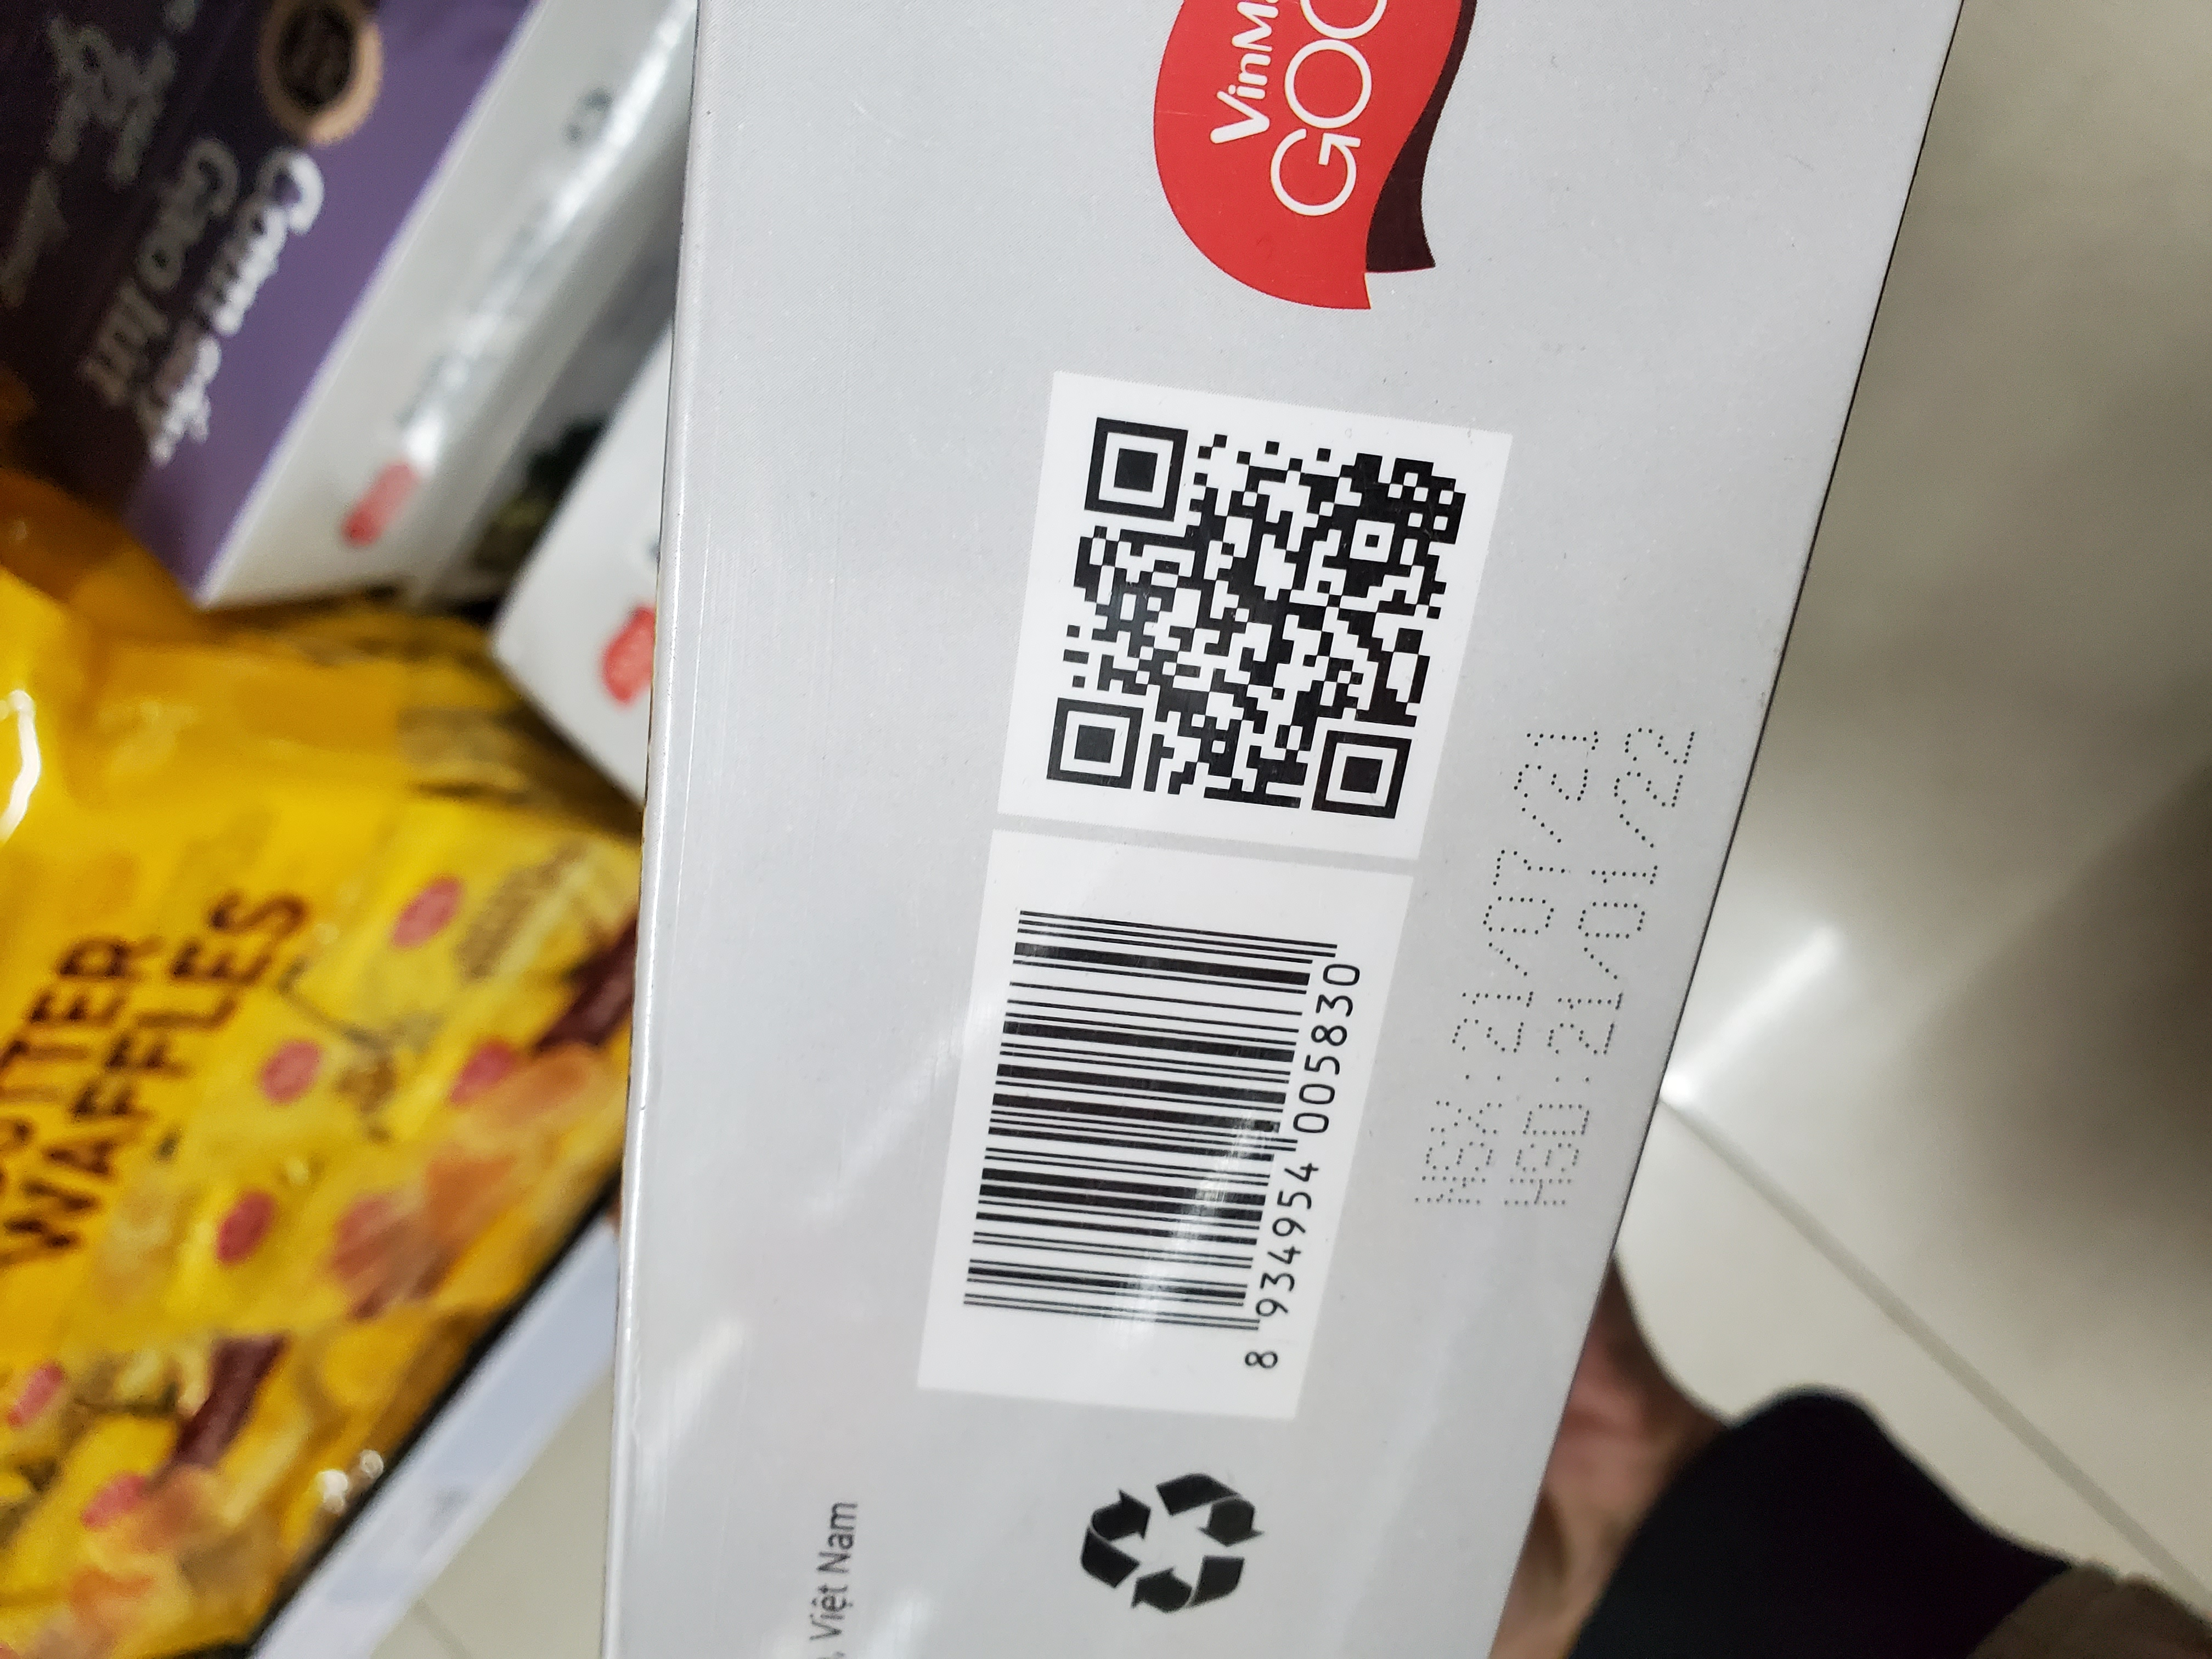barcode: (944, 875, 1385, 1441)
qr code: (1029, 375, 1500, 857)
